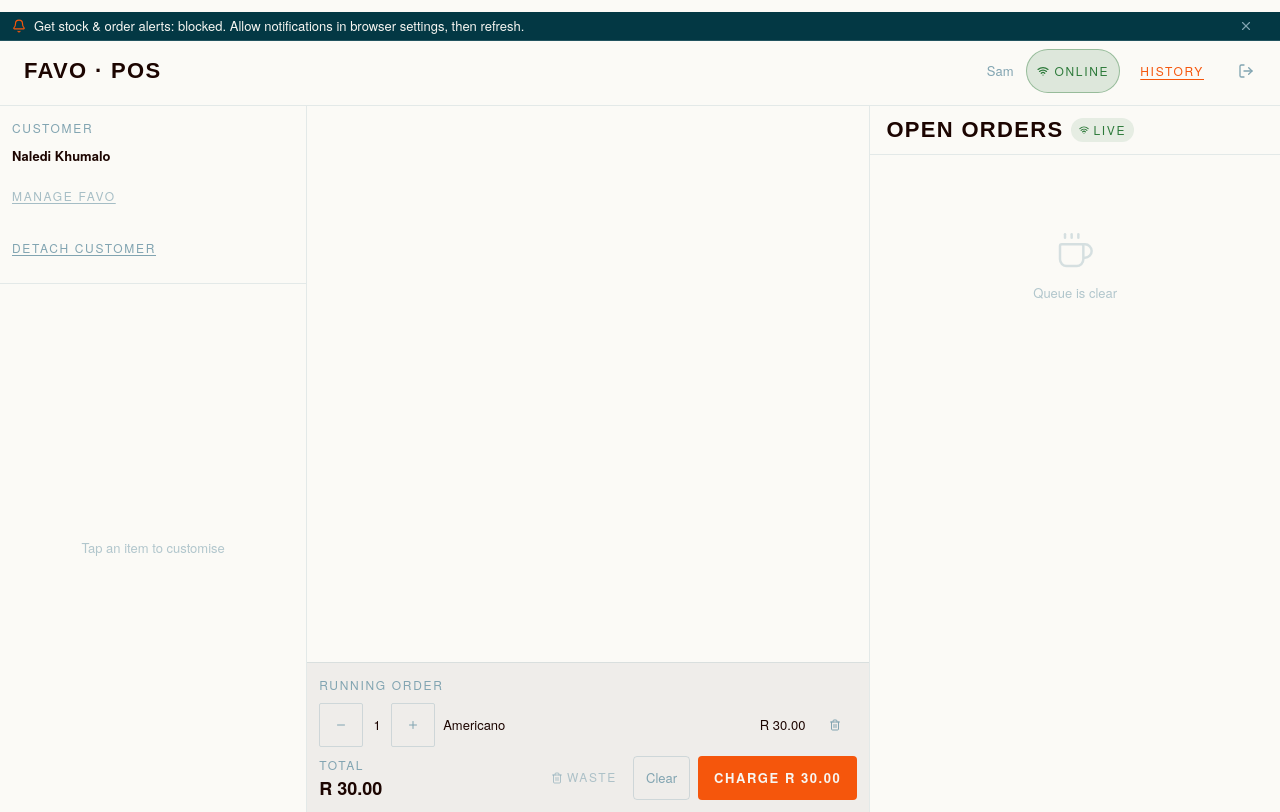
Test: Send button › keeps the cart and customer when the order is refused
What coordinates should you click on to do the following:
click the button "Charge R 30.00"
I would click on:
 (778, 778)
Its box is [698,756,857,800].
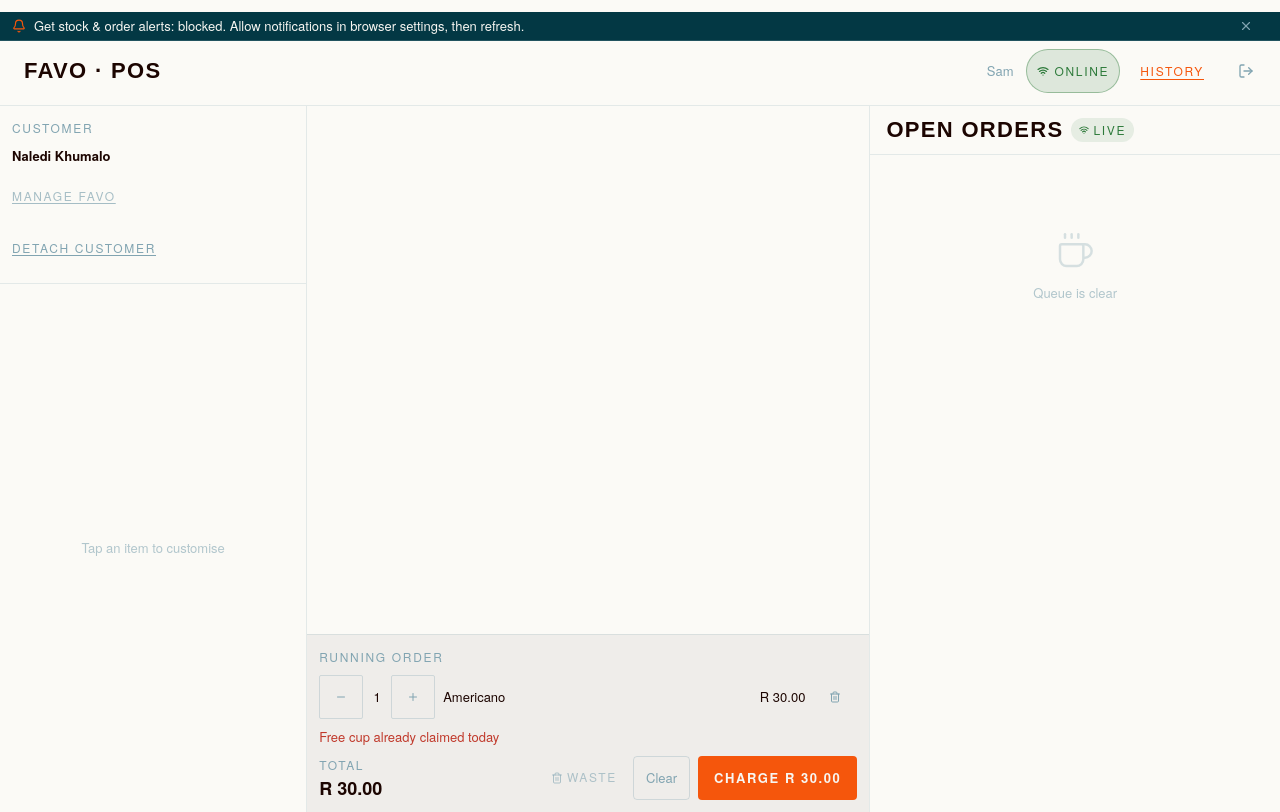
Check: the text "Americano" is shown, box [443,687,505,706]
Check: the text "Free cup already claimed today" is shown, box [319,727,499,746]
